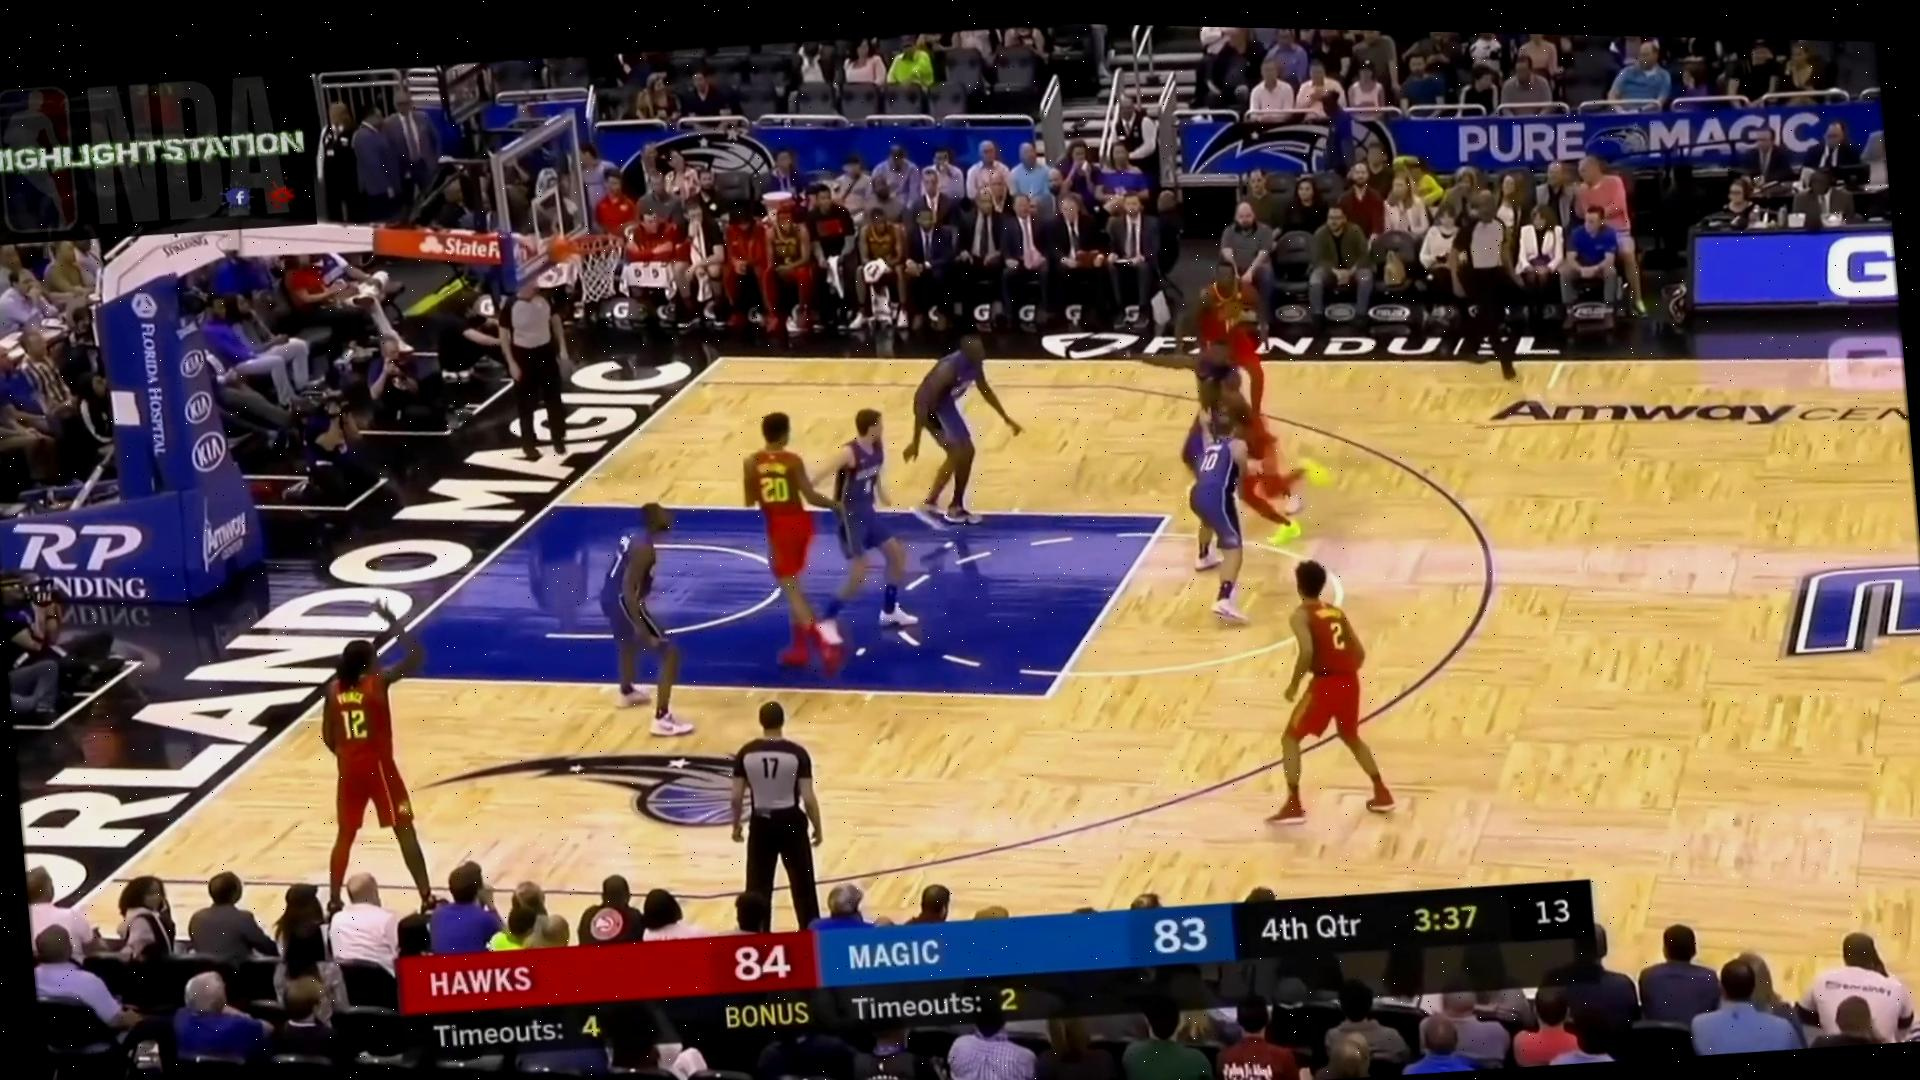no_foul: (745, 389, 927, 679)
